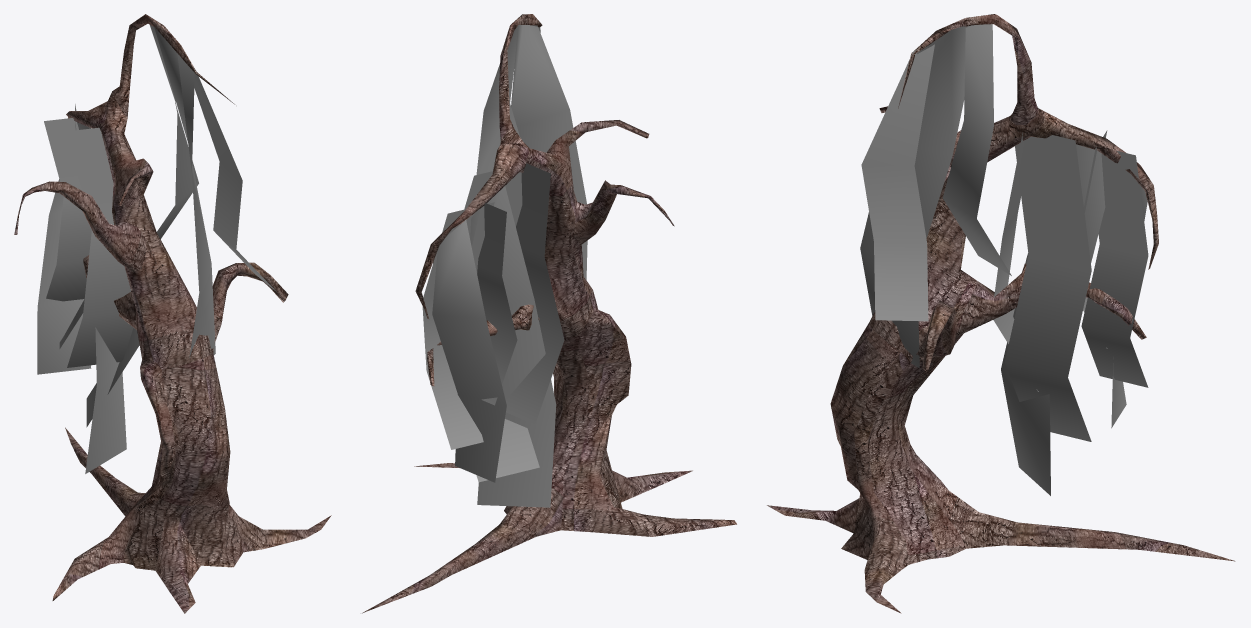
The model's file is kurvigtree_lod1.fbx.
The picture shows the model from 3 angles, left to right: view 1: azimuth 30°, elevation 25°; view 2: azimuth 150°, elevation 25°; view 3: azimuth 270°, elevation 25°; orthographic projection. The views are drawn at different scales.
Parts seen in each view (by area): view 1: Default_Layer; view 2: Default_Layer; view 3: Default_Layer.
Part boxes in pixels (<box>): Default_Layer: <box>14,14,331,613</box>; Default_Layer: <box>362,14,736,613</box>; Default_Layer: <box>767,14,1235,613</box>.
Bounding box in the file's own units: 791 × 1276 × 1026.
